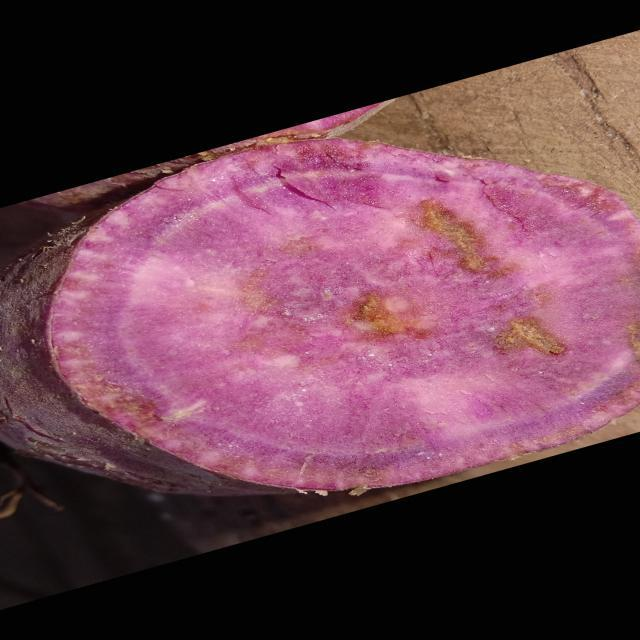Sick Sweet Potato_Tuber Rot: (49, 139, 638, 490)
